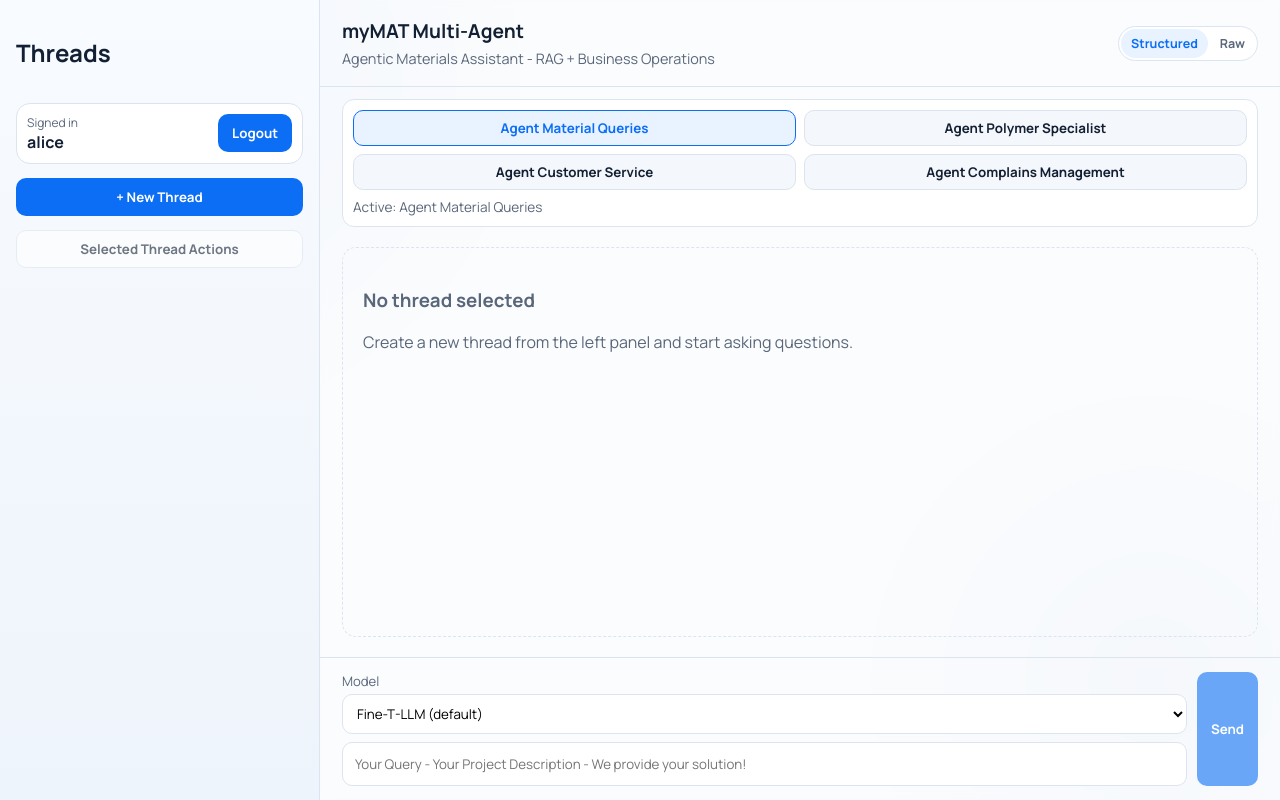
App chat flow › shows backend error fallback when request fails
The width and height of the screenshot is (1280, 800).
Replace the text in the field named "Ask a question" with "Question" at (764,764), box [342,742,1187,786]
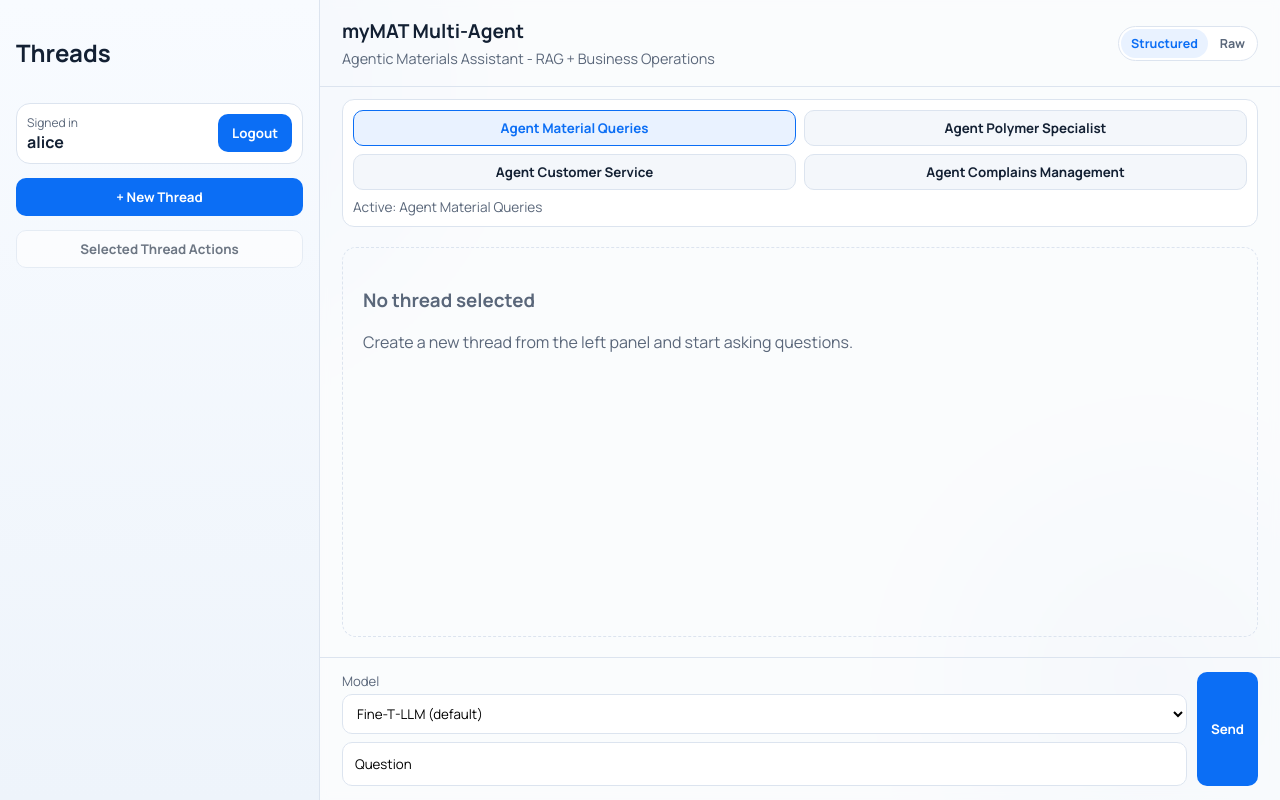
Click the button "Send" at (1228,729), box [1197,672,1258,786]
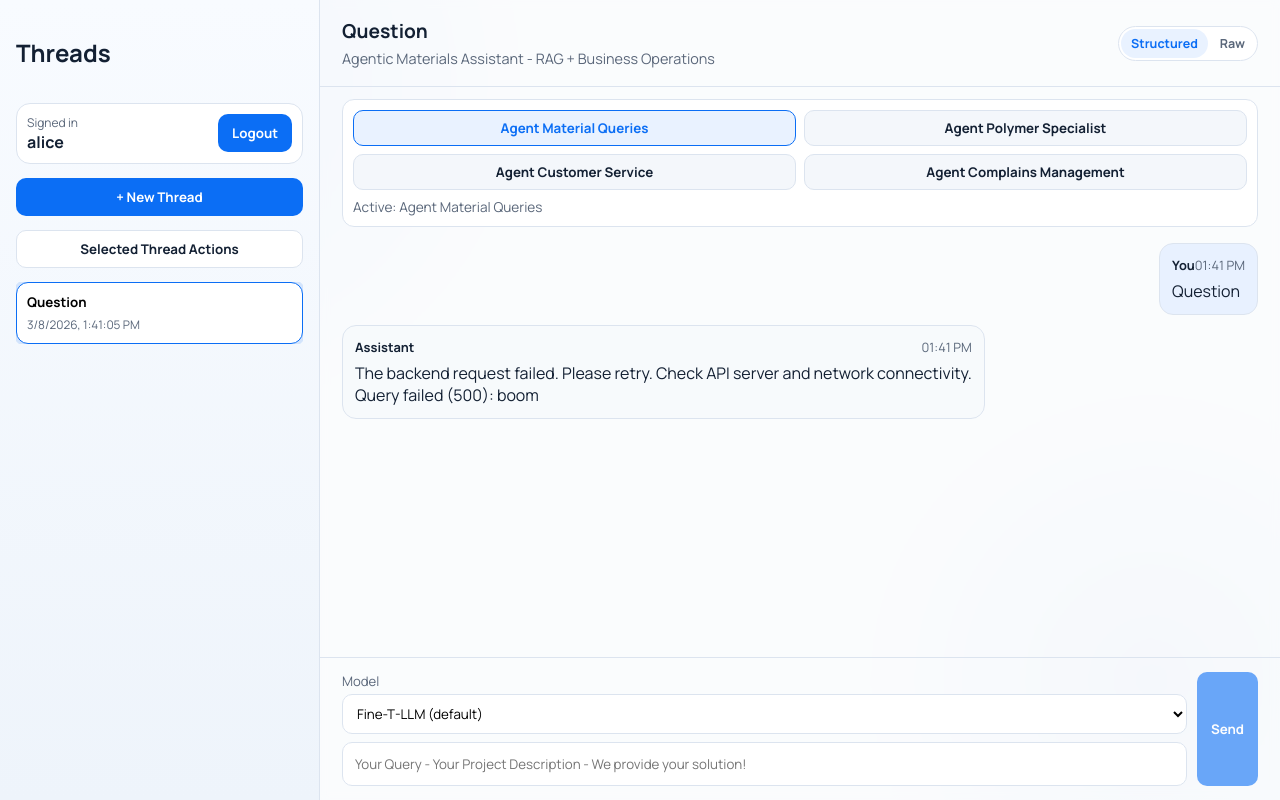
Now the text "The backend request failed" is shown, box [355,362,972,406]
